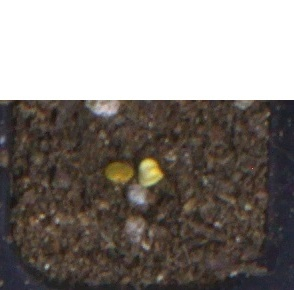chilli seed: (138, 157, 164, 187), (104, 160, 135, 184)
